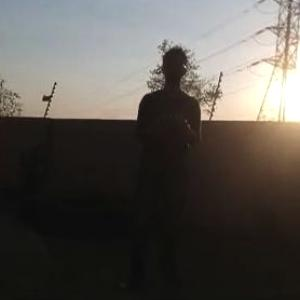follow: (111, 37, 205, 289)
